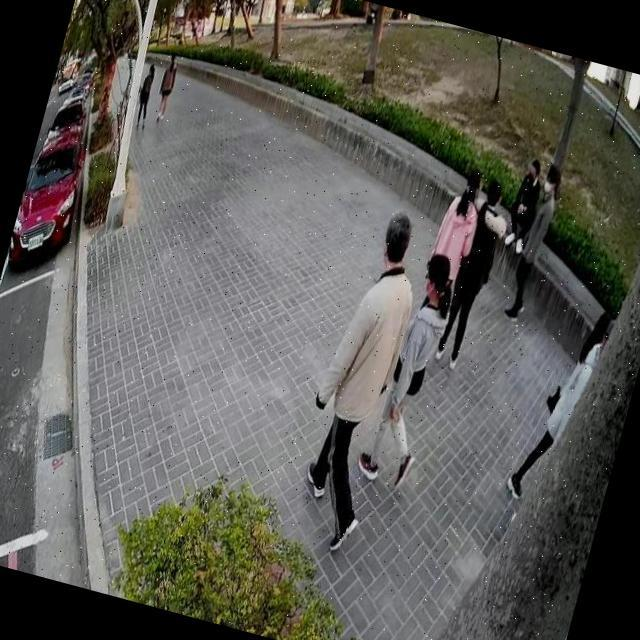person: (274, 193, 446, 561), (348, 239, 472, 504), (428, 170, 522, 376), (412, 154, 496, 321), (496, 154, 569, 330), (546, 306, 618, 464), (498, 148, 554, 259), (150, 46, 184, 122), (130, 56, 164, 132)
